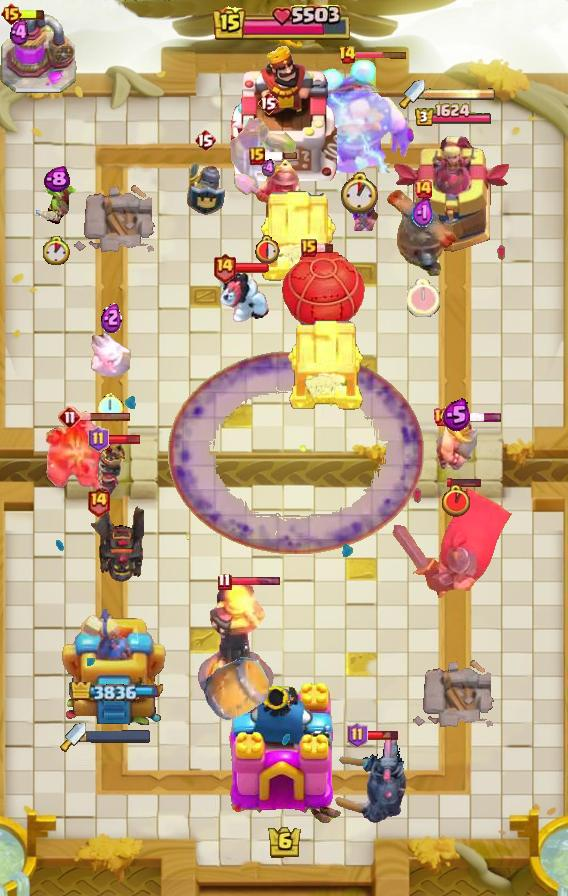archer-evolution: (86, 503, 144, 585)
bandit: (233, 154, 303, 224)
bar: (391, 132, 515, 256), (62, 601, 166, 731)
barbarian-hut: (225, 113, 311, 199)
bat: (89, 331, 133, 377)
bomb: (258, 188, 338, 282), (286, 317, 366, 411)
bomber-evolution: (91, 439, 127, 501)
cannon-cart: (278, 246, 368, 356)
cannoneer-tower: (45, 414, 125, 500)
clock: (213, 5, 355, 43)
dark-prince: (376, 190, 470, 276)
dirt: (201, 653, 271, 723)
electro-dragon: (196, 581, 276, 709)
electro-spirit: (442, 398, 470, 432), (43, 167, 70, 194), (412, 197, 434, 230), (101, 301, 122, 333), (10, 18, 29, 45), (262, 159, 274, 177)
elixir: (339, 173, 381, 216), (407, 279, 441, 317), (442, 484, 470, 517), (43, 236, 70, 265), (255, 234, 281, 264), (98, 392, 124, 422)
emote: (449, 413, 502, 424), (80, 411, 132, 422), (229, 577, 281, 588), (354, 49, 408, 59), (10, 7, 46, 21), (234, 262, 270, 274), (364, 729, 399, 741), (106, 434, 142, 445), (446, 476, 481, 487), (262, 151, 298, 161), (315, 243, 334, 254)
goblin: (351, 197, 377, 231)
goblin-giant: (436, 417, 477, 472)
golemite: (332, 731, 406, 825)
king-tower: (222, 680, 346, 826), (231, 43, 337, 181)
king-tower-bar: (425, 87, 495, 101), (86, 730, 150, 743)
little-prince: (304, 59, 416, 173)
pekka: (0, 13, 78, 95)
princess: (184, 153, 226, 217)
rage: (213, 268, 271, 326)
rocket: (168, 351, 424, 555)
selected: (414, 103, 494, 128), (69, 682, 158, 701)
text: (211, 252, 236, 283), (85, 487, 110, 518), (58, 405, 82, 429), (1, 2, 24, 26), (87, 426, 108, 452), (348, 722, 369, 748), (257, 91, 279, 115), (194, 128, 216, 152), (338, 45, 358, 65), (413, 179, 433, 199), (432, 407, 452, 427), (249, 147, 265, 165), (301, 239, 317, 257), (217, 573, 231, 592)
wall-breaker-evolution: (391, 485, 514, 599)
zap: (34, 172, 78, 227)
